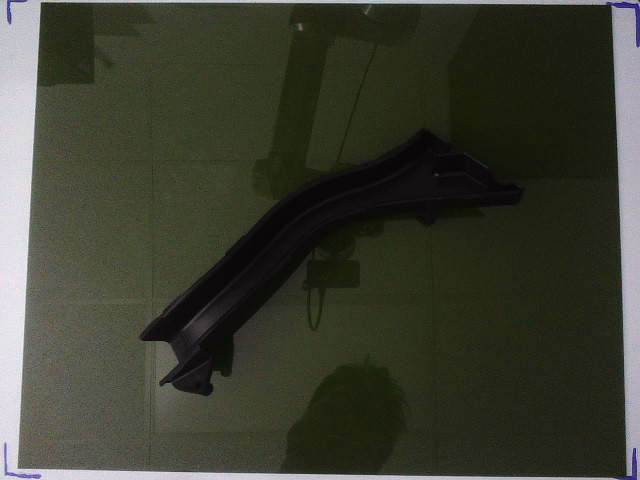887_A-Under: (141, 127, 524, 396)
